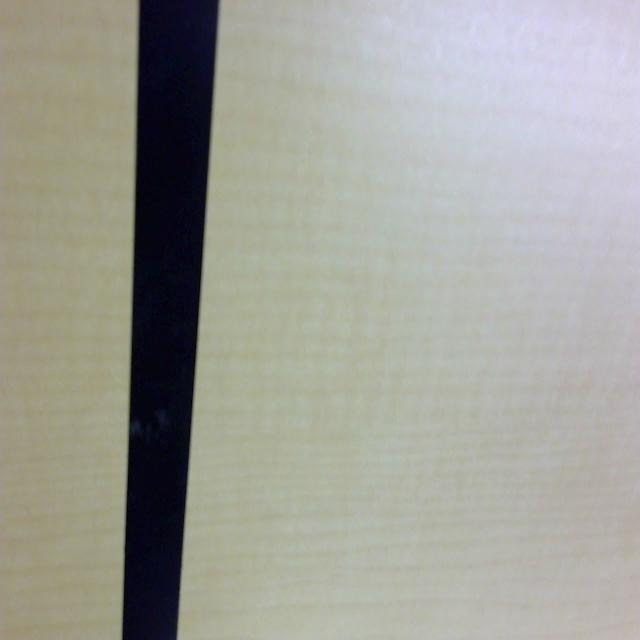tape: (107, 0, 234, 640)
